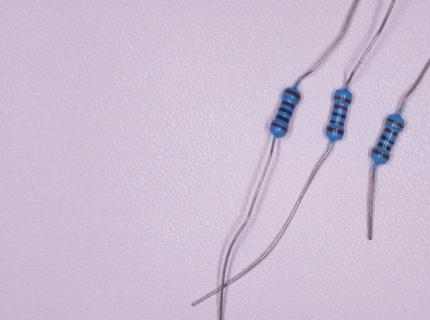Black band: (277, 107, 292, 116), (377, 142, 392, 151), (275, 115, 289, 124), (380, 135, 394, 144)
Brown band: (372, 149, 390, 159), (284, 90, 301, 100), (387, 118, 404, 128), (384, 126, 398, 137), (271, 123, 288, 132), (281, 100, 295, 109)
